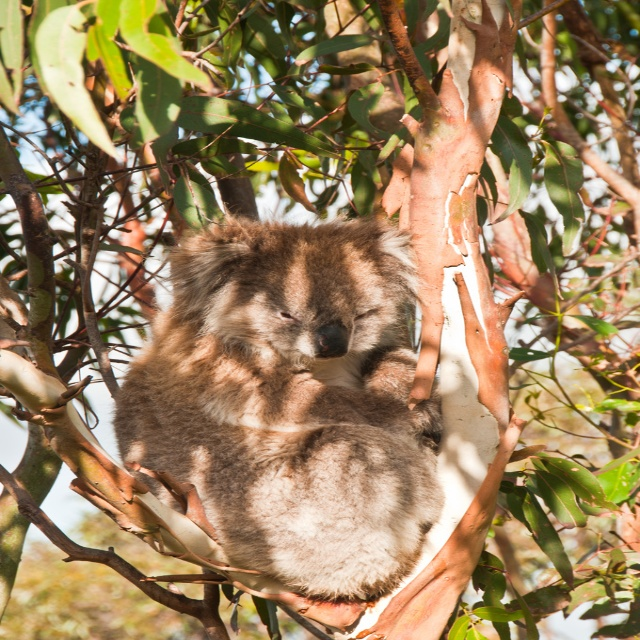Koala: (107, 203, 446, 604)
